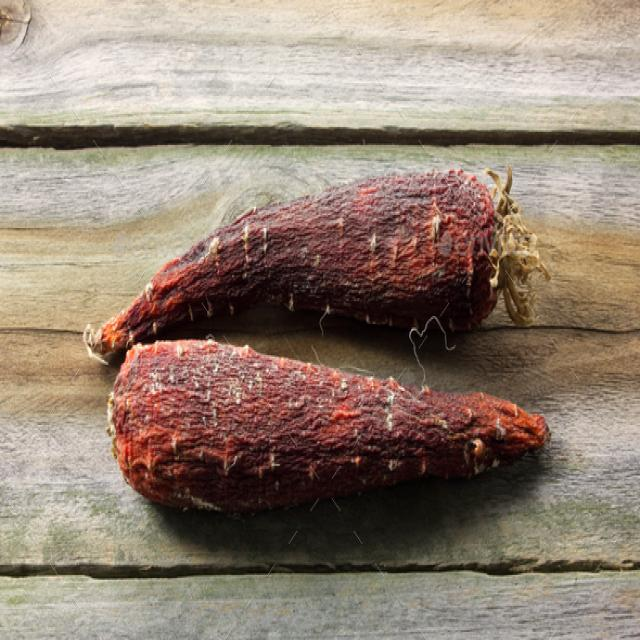Stale_Carrot: (109, 388, 545, 556), (95, 185, 512, 354)
